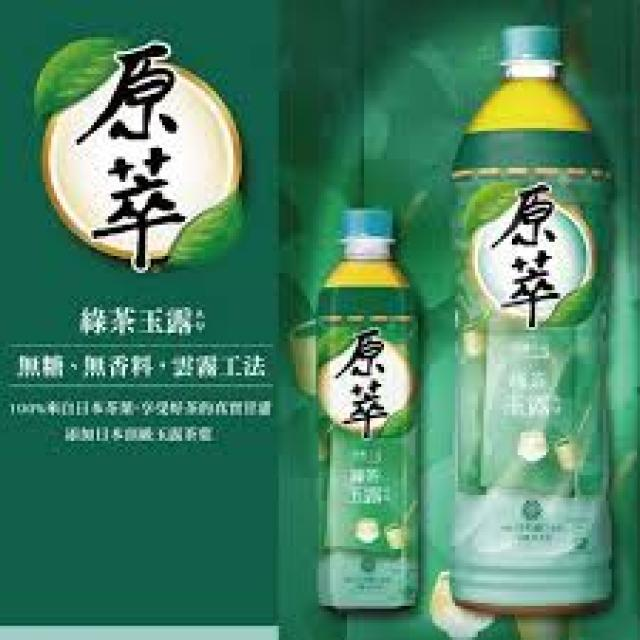YuanTsui_GreenTea: (439, 18, 631, 626), (308, 198, 433, 622)
